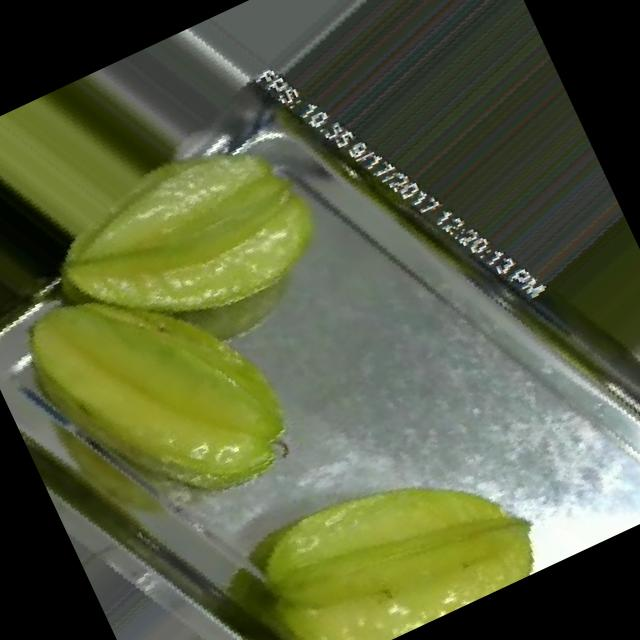fruit: (0, 50, 411, 460), (0, 181, 387, 602), (176, 357, 582, 640)
